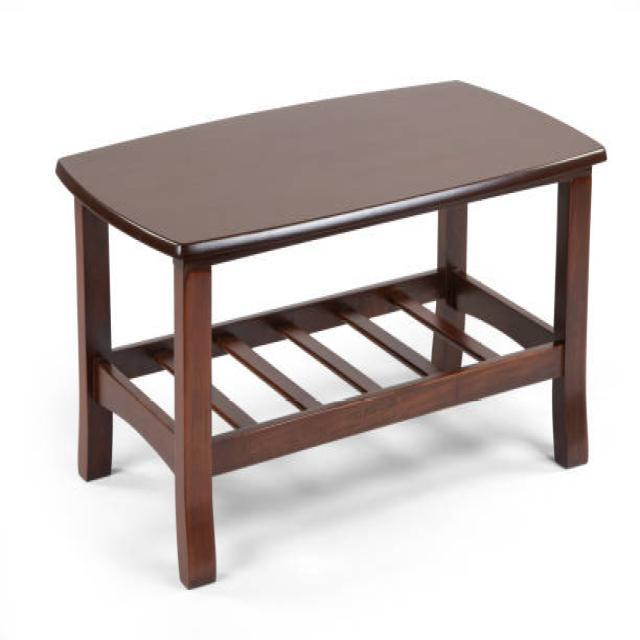table: (54, 77, 606, 590)
